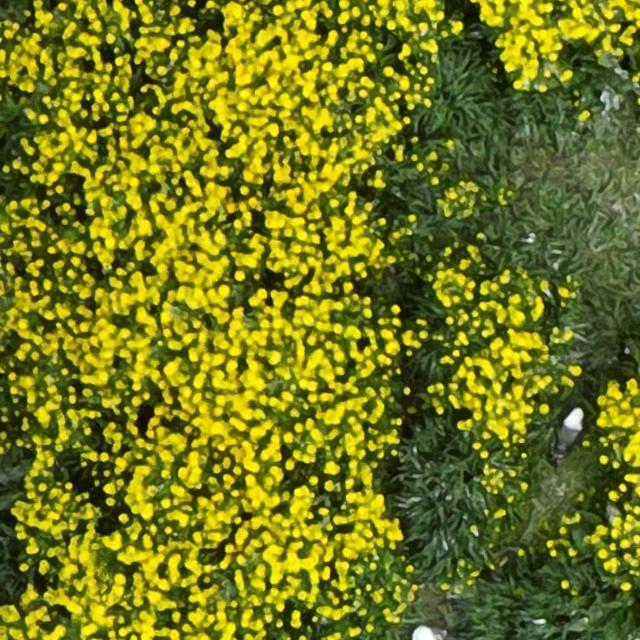umineko: (558, 409, 584, 452)
